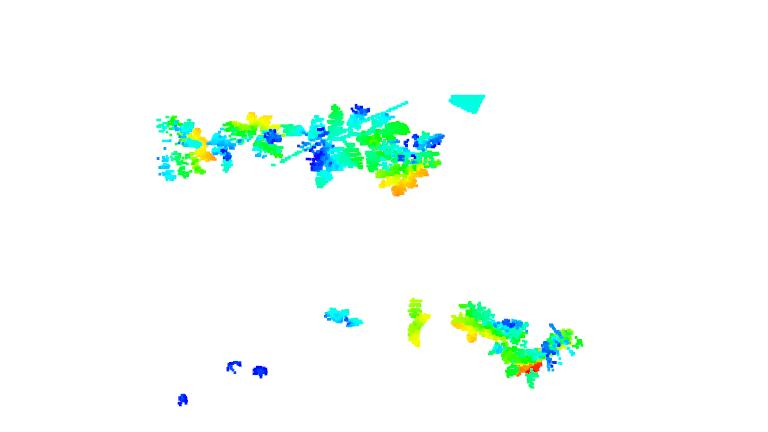chickpea: (292, 104, 402, 191), (496, 326, 589, 392), (147, 110, 217, 192), (379, 128, 452, 204), (221, 106, 290, 175), (451, 295, 531, 349), (312, 300, 366, 335), (404, 290, 436, 346)
